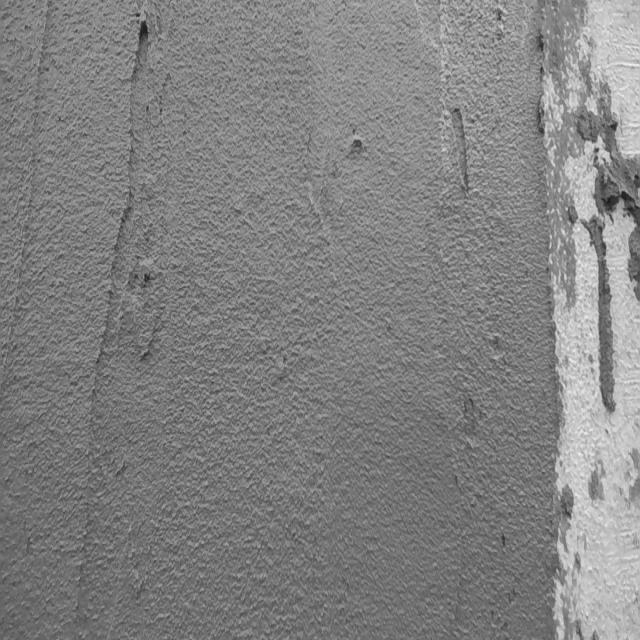trowels marks: (16, 9, 58, 351)
